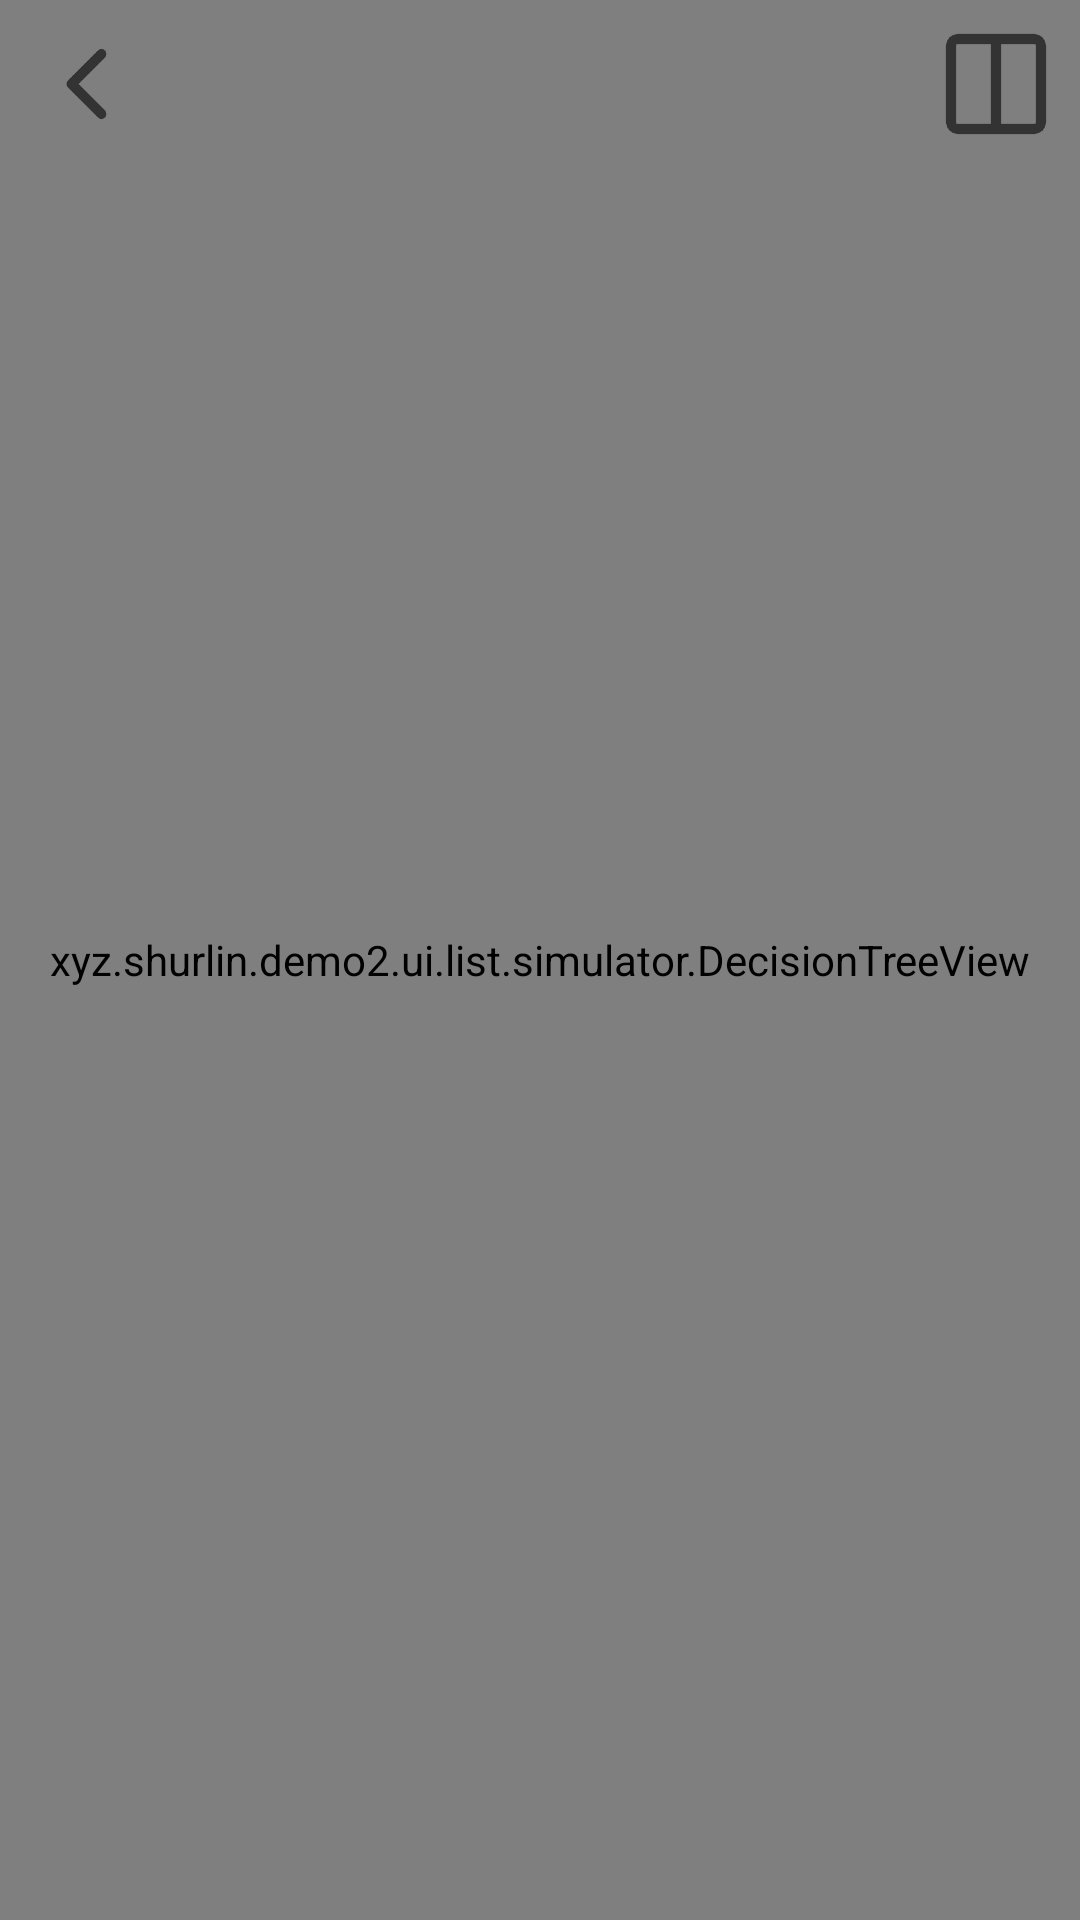

Where to tap for icons on this 1080px x 1920px app screen, as (x,y):
column: (996,84)
left: (86,84)
